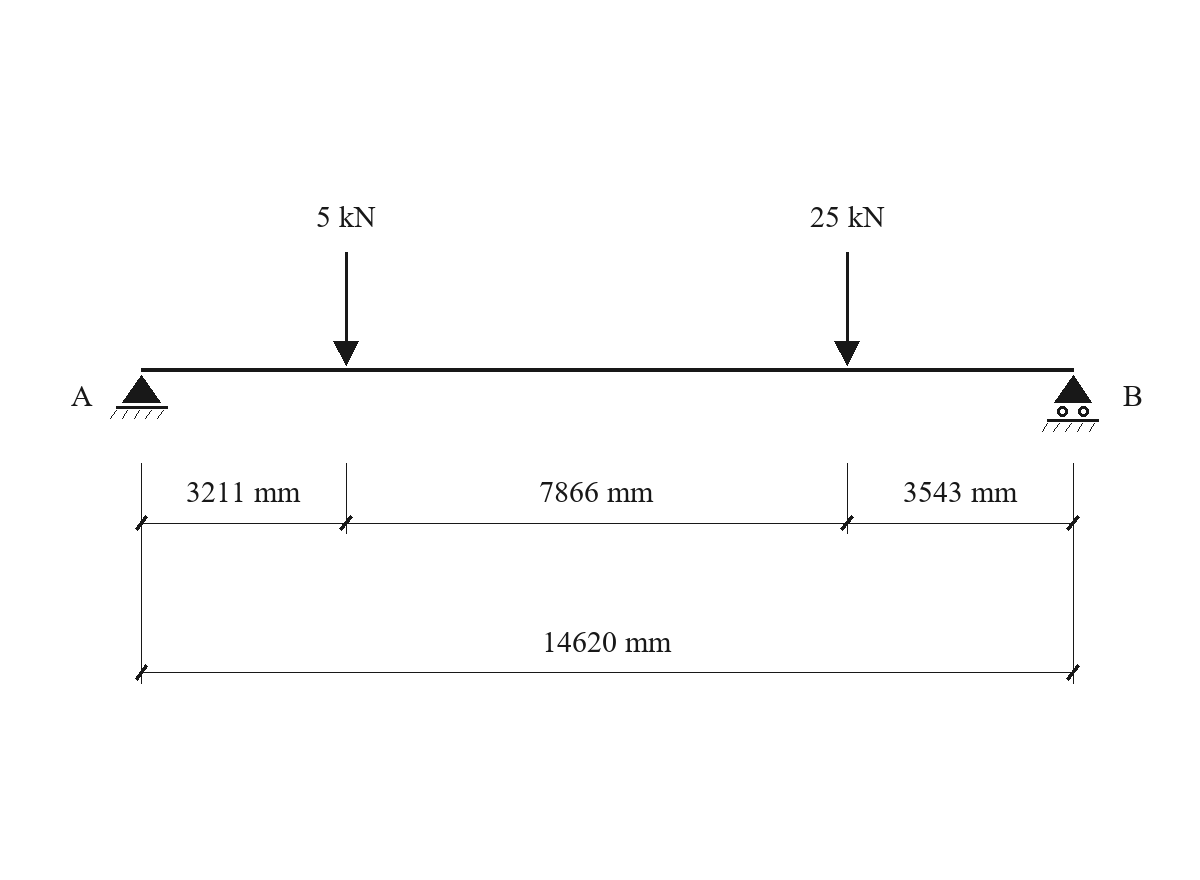pin_support: (110, 375, 168, 419)
point_load: (333, 252, 359, 366), (834, 252, 860, 366)
roller_support: (1042, 375, 1099, 432)
